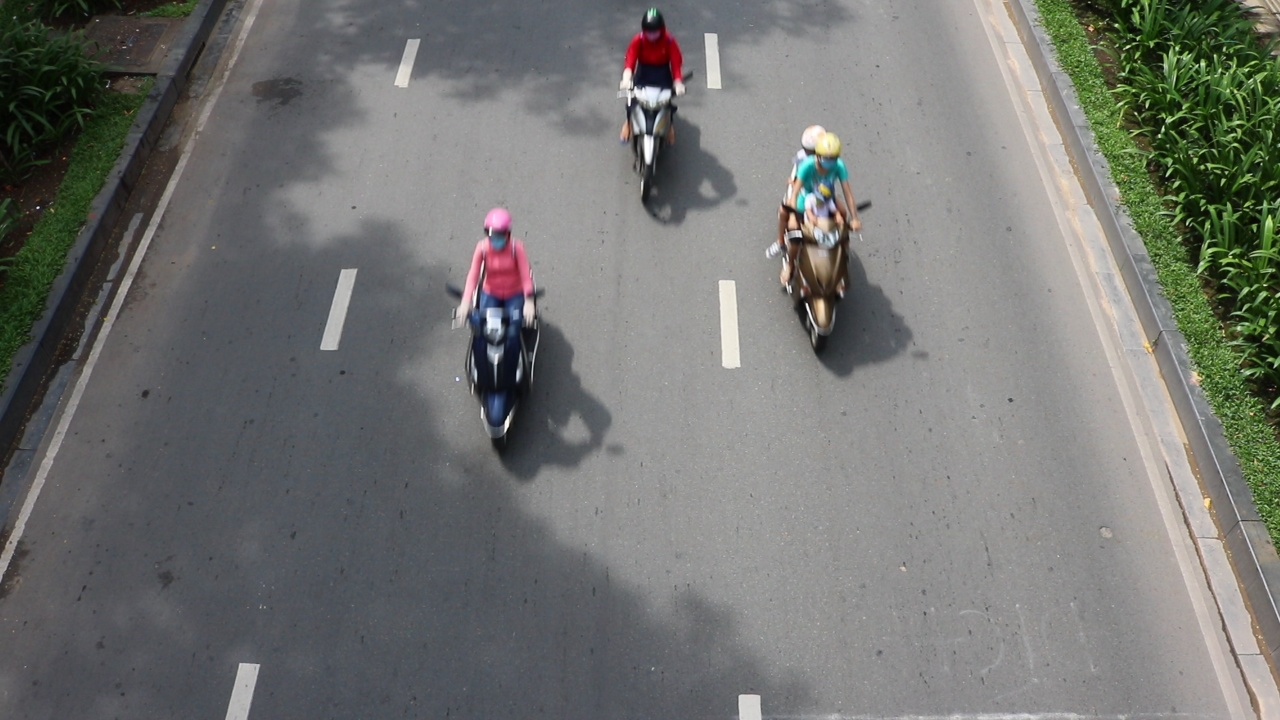motorcycle: (455, 291, 539, 445), (778, 199, 862, 352), (611, 74, 688, 194)
